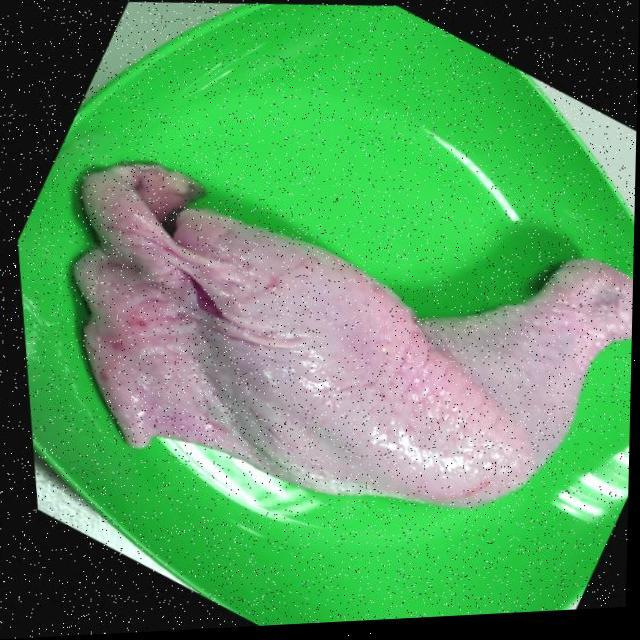quater: (81, 156, 636, 520)
